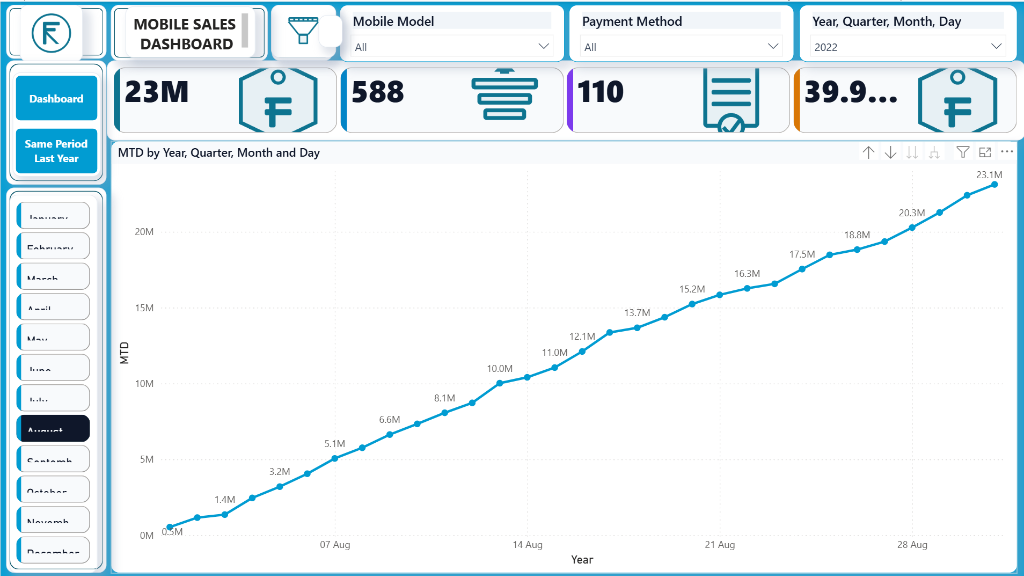

Layout of this report page (visuals, bound fields, positions):
{"tool":"powerbi","page":{"name":"MTD Report","canvas":[1280,720],"ordinal":1},"visuals":[{"type":"shape","box":[7.5,3.8,125,67.5],"z":0},{"type":"image","box":[23.8,3.8,78.8,71.2],"z":1000},{"type":"shape","box":[7.5,73.8,125,155],"z":2000},{"type":"cardVisual","fields":{"Data":["Sales_Data.Total_Sales","Sales_Data.Total_Quantity","Sales_Data.Transactions","Sales_Data.Average_Price"]},"box":[132.5,73.8,1147.5,100],"z":5000},{"type":"slicer","fields":{"Values":["Sales_Data.Mobile Model"]},"box":[423.8,3.8,281.2,71.2],"z":6000},{"type":"slicer","fields":{"Values":["Sales_Data.Payment Method"]},"box":[710,3.8,281.2,71.2],"z":7000},{"type":"slicer","fields":{"Values":["Custom_Calendar.Date.Variation.Date Hierarchy.Year","Custom_Calendar.Date.Variation.Date Hierarchy.Quarter","Custom_Calendar.Date.Variation.Date Hierarchy.Month","Custom_Calendar.Date.Variation.Date Hierarchy.Day"]},"box":[997.5,3.8,272.5,71.2],"z":8000},{"type":"shape","box":[338.8,3.8,76.2,70],"z":9000},{"type":"image","box":[337.5,3.8,81.2,66.2],"z":10000},{"type":"shape","box":[397.5,17.5,30,40],"z":11000},{"type":"shape","box":[137.5,3.8,196.2,70],"z":12000},{"type":"textbox","box":[156.2,6.2,162.5,63.8],"z":13000},{"type":"lineChart","fields":{"Y":["Sales_Data.MTD"],"Category":["Custom_Calendar.Date.Variation.Date Hierarchy.Year","Custom_Calendar.Date.Variation.Date Hierarchy.Quarter","Custom_Calendar.Date.Variation.Date Hierarchy.Month","Custom_Calendar.Date.Variation.Date Hierarchy.Day"]},"box":[137.5,173.8,1132.5,540],"z":13001},{"type":"shape","box":[7.5,232.5,125,481.2],"z":13002},{"type":"advancedSlicerVisual","fields":{"Values":["Custom_Calendar.Date.Variation.Date Hierarchy.Month"]},"box":[11.2,241.2,110,472.5],"z":13003},{"type":"pageNavigator","box":[15,88.8,110,130],"z":13004}]}

Visuals, with their boxes on the page's 1280x720 design canvas (x1, y1, x2, y2). These are canvas units, not pixel positions in the 1024x576 screenshot, which may show the page scaled, cropped or inside an application window:
shape: pyautogui.locateOnScreen(8, 4, 132, 71)
image: pyautogui.locateOnScreen(24, 4, 103, 75)
shape: pyautogui.locateOnScreen(8, 74, 132, 229)
cardVisual - Sales_Data.Total_Sales x Sales_Data.Total_Quantity: pyautogui.locateOnScreen(132, 74, 1280, 174)
slicer - Sales_Data.Mobile Model: pyautogui.locateOnScreen(424, 4, 705, 75)
slicer - Sales_Data.Payment Method: pyautogui.locateOnScreen(710, 4, 991, 75)
slicer - Custom_Calendar.Date.Variation.Date Hierarchy.Year x Custom_Calendar.Date.Variation.Date Hierarchy.Quarter: pyautogui.locateOnScreen(998, 4, 1270, 75)
shape: pyautogui.locateOnScreen(339, 4, 415, 74)
image: pyautogui.locateOnScreen(338, 4, 419, 70)
shape: pyautogui.locateOnScreen(398, 18, 428, 58)
shape: pyautogui.locateOnScreen(138, 4, 334, 74)
textbox: pyautogui.locateOnScreen(156, 6, 319, 70)
lineChart - Sales_Data.MTD x Custom_Calendar.Date.Variation.Date Hierarchy.Year: pyautogui.locateOnScreen(138, 174, 1270, 714)
shape: pyautogui.locateOnScreen(8, 232, 132, 714)
advancedSlicerVisual - Custom_Calendar.Date.Variation.Date Hierarchy.Month: pyautogui.locateOnScreen(11, 241, 121, 714)
pageNavigator: pyautogui.locateOnScreen(15, 89, 125, 219)
